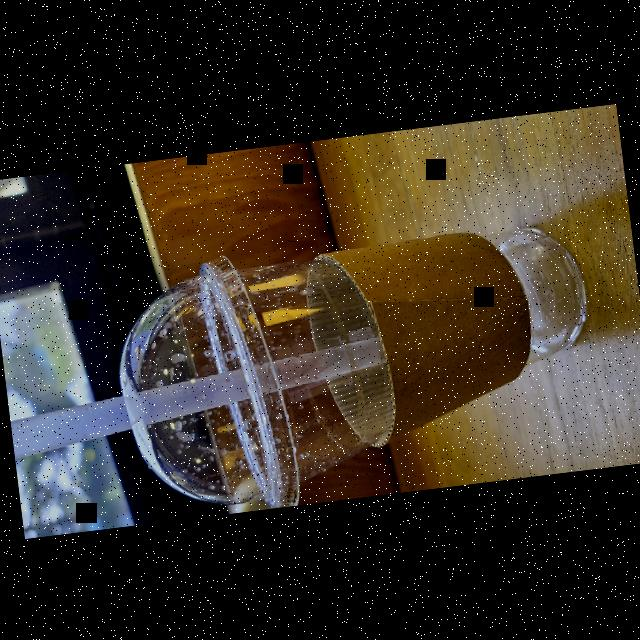plastic_cup: (105, 210, 607, 524)
plastic_cup_lid: (110, 273, 303, 524)
straw: (4, 328, 394, 461)
